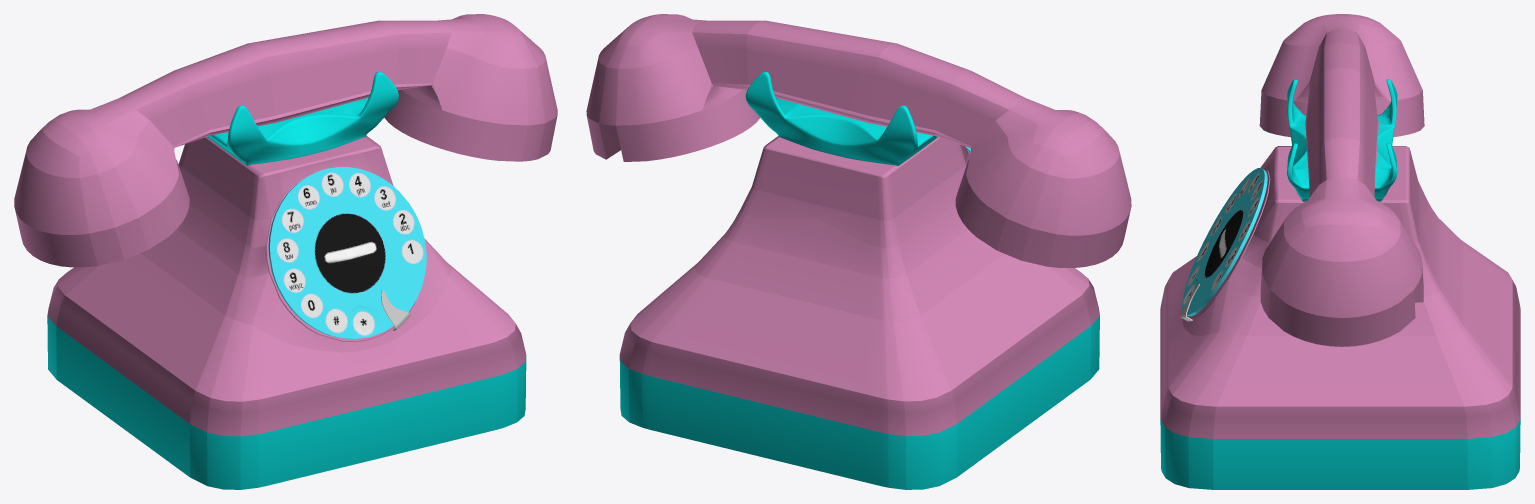
File: level18.1.fbx
The picture shows the model from 3 angles, left to right: view 1: azimuth 30°, elevation 25°; view 2: azimuth 150°, elevation 25°; view 3: azimuth 270°, elevation 25°; orthographic projection. The views are drawn at different scales.
Visible parts, largest first — view 1: polySurface25, polySurface31, polySurface24, polySurface26; view 2: polySurface25, polySurface31, polySurface26; view 3: polySurface25, polySurface31, polySurface24, polySurface26.
Boxes of the visible parts, <box> form: polySurface25: <box>47,136,526,489</box>; polySurface31: <box>14,14,557,267</box>; polySurface24: <box>268,167,426,338</box>; polySurface26: <box>207,71,398,165</box>; polySurface25: <box>619,136,1099,489</box>; polySurface31: <box>586,14,1131,267</box>; polySurface26: <box>745,71,937,165</box>; polySurface25: <box>1160,146,1520,489</box>; polySurface31: <box>1259,14,1424,346</box>; polySurface24: <box>1182,168,1267,316</box>; polySurface26: <box>1287,79,1397,201</box>.
Size of the model in its own units: 32.24 by 21.18 by 20.29.
